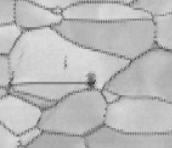good_void: (84, 71, 98, 87), (63, 55, 69, 70)
